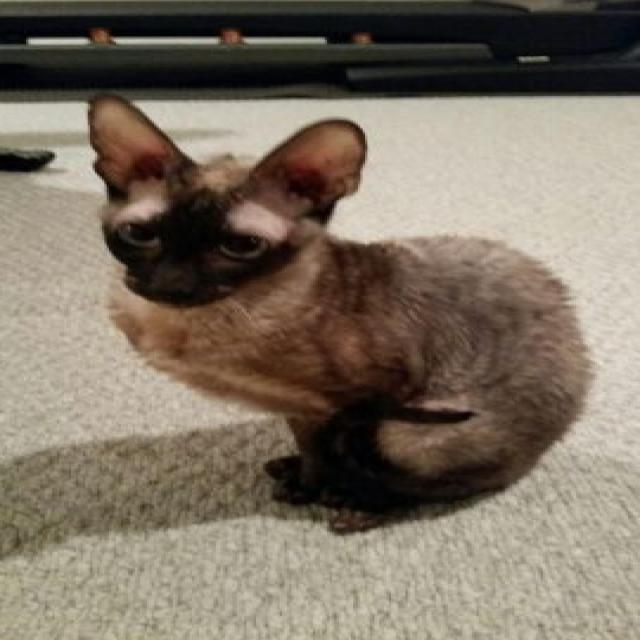Cornish Rex: (78, 86, 608, 541)
